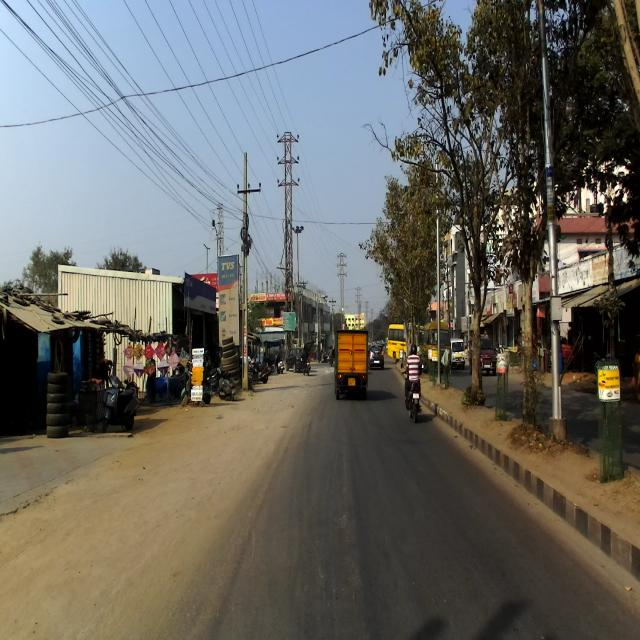electric pole ahead at: (232, 147, 262, 402)
truck ahead at: (334, 324, 370, 400)
